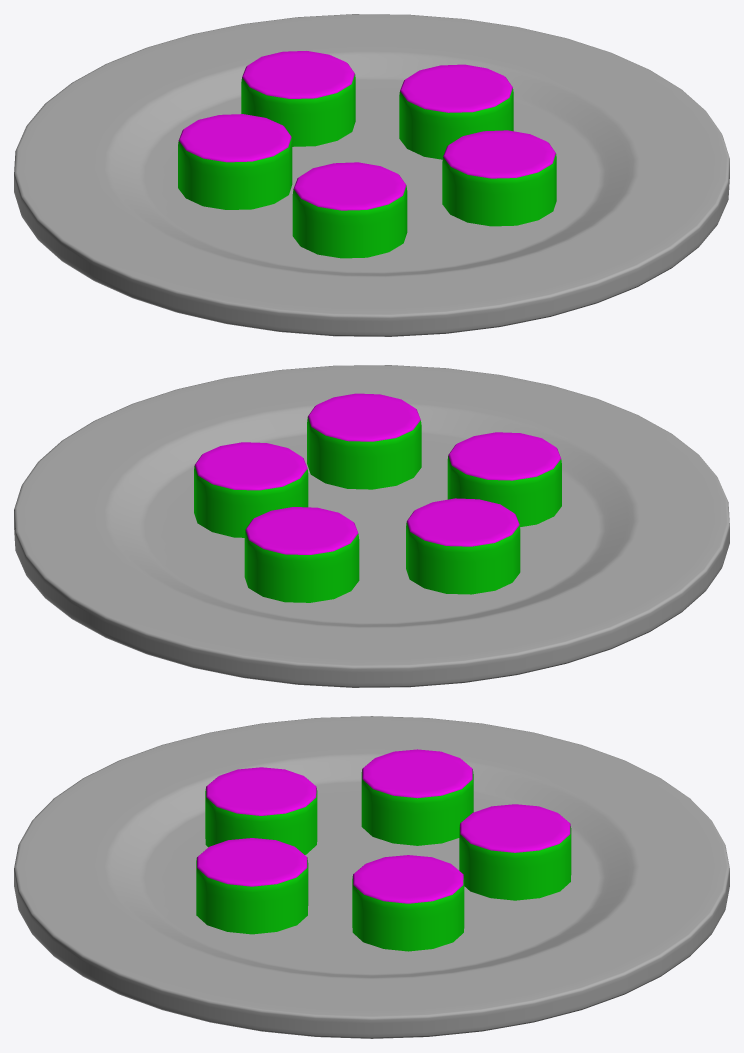
The model's file is Sushi_high.fbx.
3 renders of one model, top to bottom at view 1: azimuth 30°, elevation 25°; view 2: azimuth 150°, elevation 25°; view 3: azimuth 270°, elevation 25°, orthographic.
Parts seen in each view (by area): view 1: pCylinder1, pasted__pCylinder7, pasted__pCylinder6, pasted__pCylinder8, pasted__pCylinder4, pasted__pCylinder5; view 2: pCylinder1, pasted__pCylinder4, pasted__pCylinder6, pasted__pCylinder8, pasted__pCylinder5, pasted__pCylinder7; view 3: pCylinder1, pasted__pCylinder5, pasted__pCylinder6, pasted__pCylinder4, pasted__pCylinder8, pasted__pCylinder7.
Part boxes in pixels (left/top/right/bottom): pCylinder1: left=14, top=14, right=729, bottom=336; pasted__pCylinder7: left=292, top=162, right=407, bottom=258; pasted__pCylinder6: left=442, top=130, right=556, bottom=226; pasted__pCylinder8: left=178, top=114, right=292, bottom=209; pasted__pCylinder4: left=241, top=51, right=355, bottom=146; pasted__pCylinder5: left=399, top=64, right=513, bottom=159; pCylinder1: left=14, top=365, right=729, bottom=687; pasted__pCylinder4: left=244, top=507, right=359, bottom=602; pasted__pCylinder6: left=307, top=393, right=421, bottom=489; pasted__pCylinder8: left=406, top=498, right=520, bottom=594; pasted__pCylinder5: left=194, top=442, right=308, bottom=537; pasted__pCylinder7: left=447, top=432, right=561, bottom=527; pCylinder1: left=14, top=716, right=729, bottom=1038; pasted__pCylinder5: left=352, top=855, right=464, bottom=951; pasted__pCylinder6: left=196, top=838, right=308, bottom=934; pasted__pCylinder4: left=459, top=804, right=571, bottom=900; pasted__pCylinder8: left=361, top=749, right=473, bottom=845; pasted__pCylinder7: left=205, top=767, right=317, bottom=854.
Bounding box in the file's own units: 1.58 × 0.1971 × 1.58.
